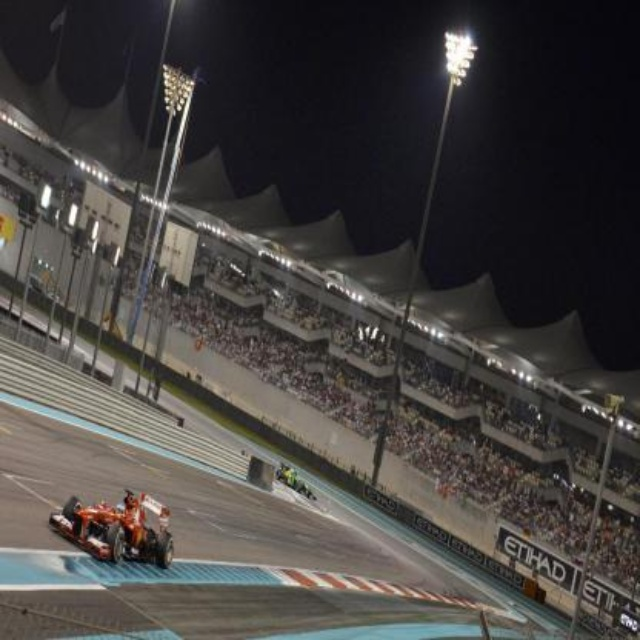Car: (50, 492, 174, 565), (280, 462, 316, 495)
